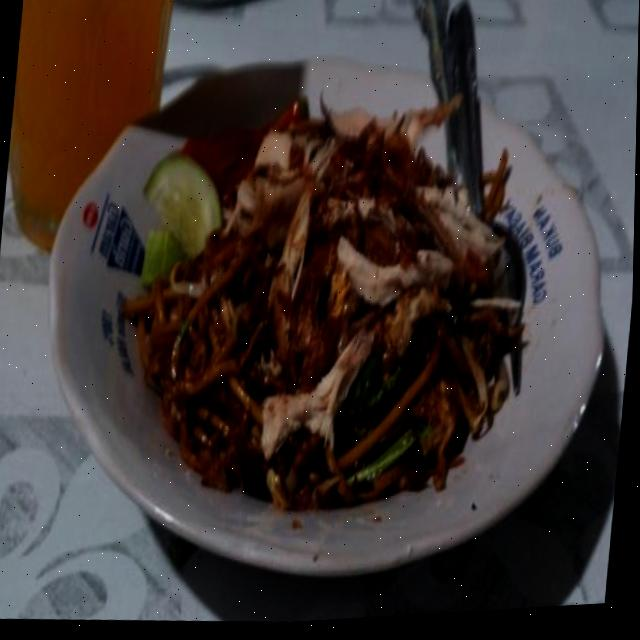面条主食: (41, 17, 604, 573)
